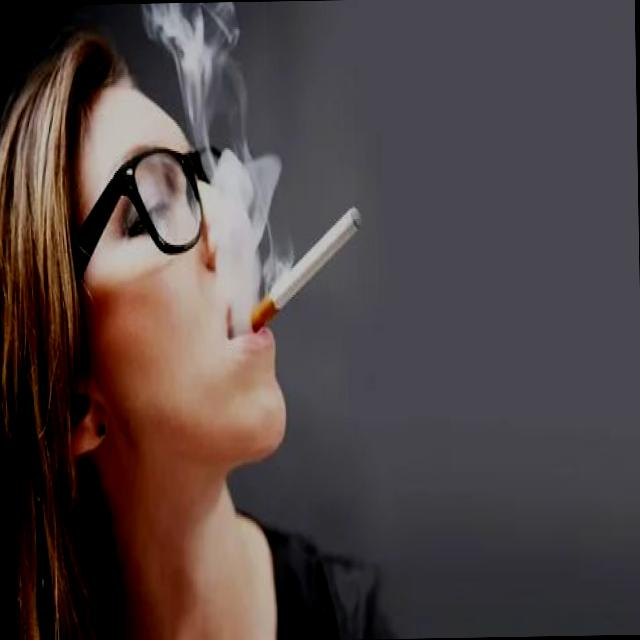smoke: (243, 202, 367, 340)
